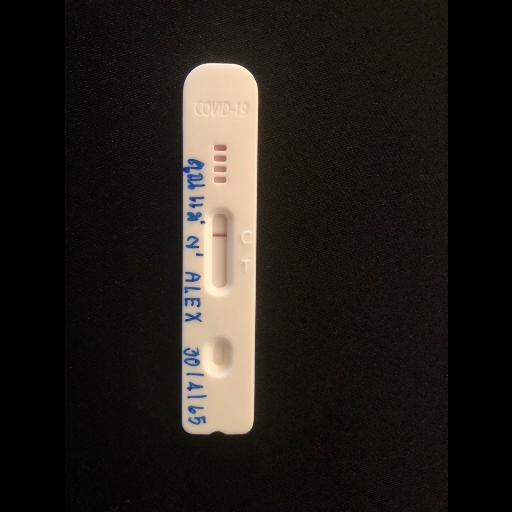Neg: (180, 64, 258, 434)
